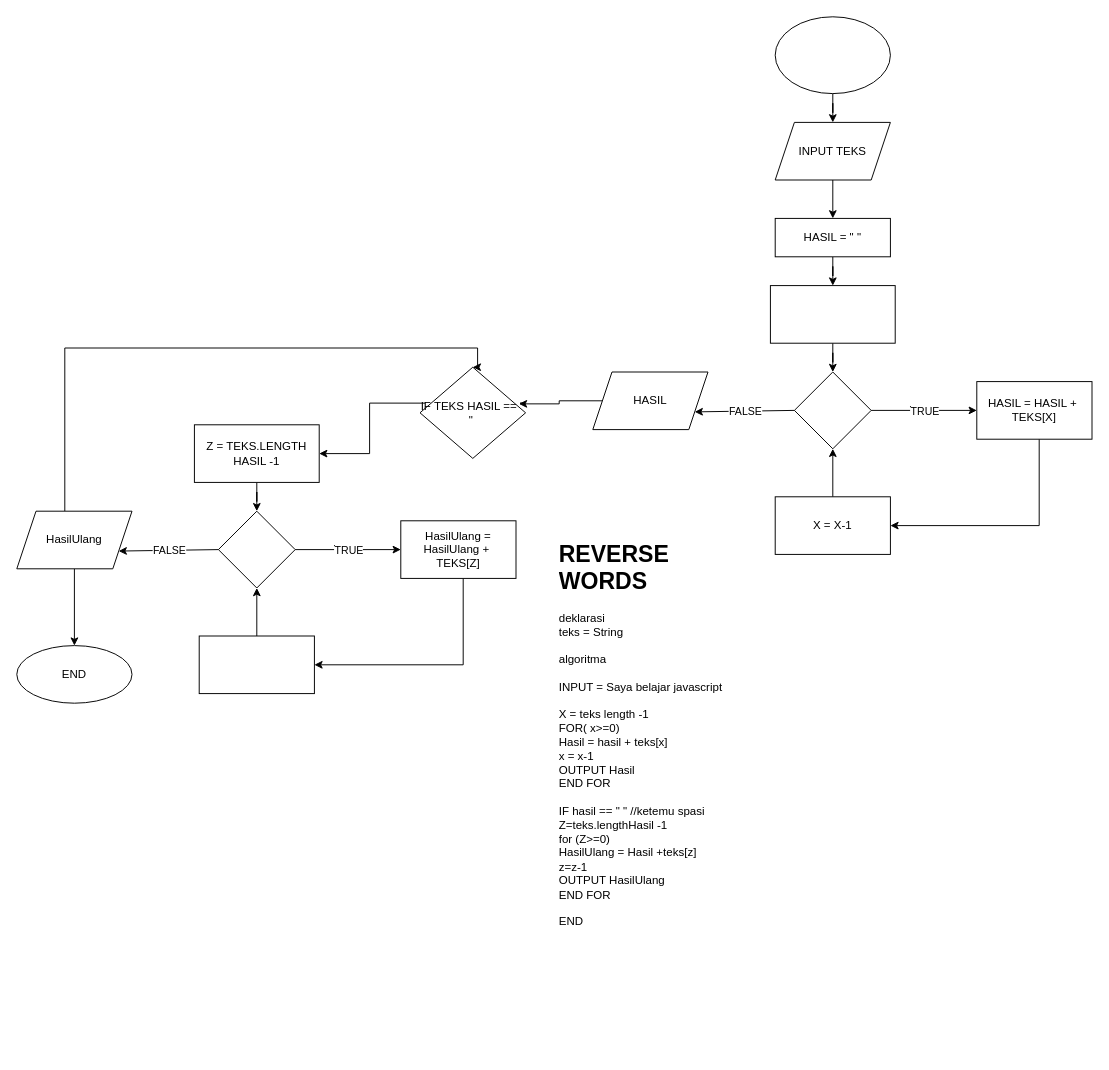
Image size: 1109x1070. Some labels were removed from this diagram. Here are the shapes that lost their labels. From the top down, the centre of each, then its label:
At (832,55): "START".
At (832,314): "X = TEKS.LENGTH -1".
At (832,410): "X>=0".
At (256,549): "Z>=0".
At (256,664): "Z = Z-1".
